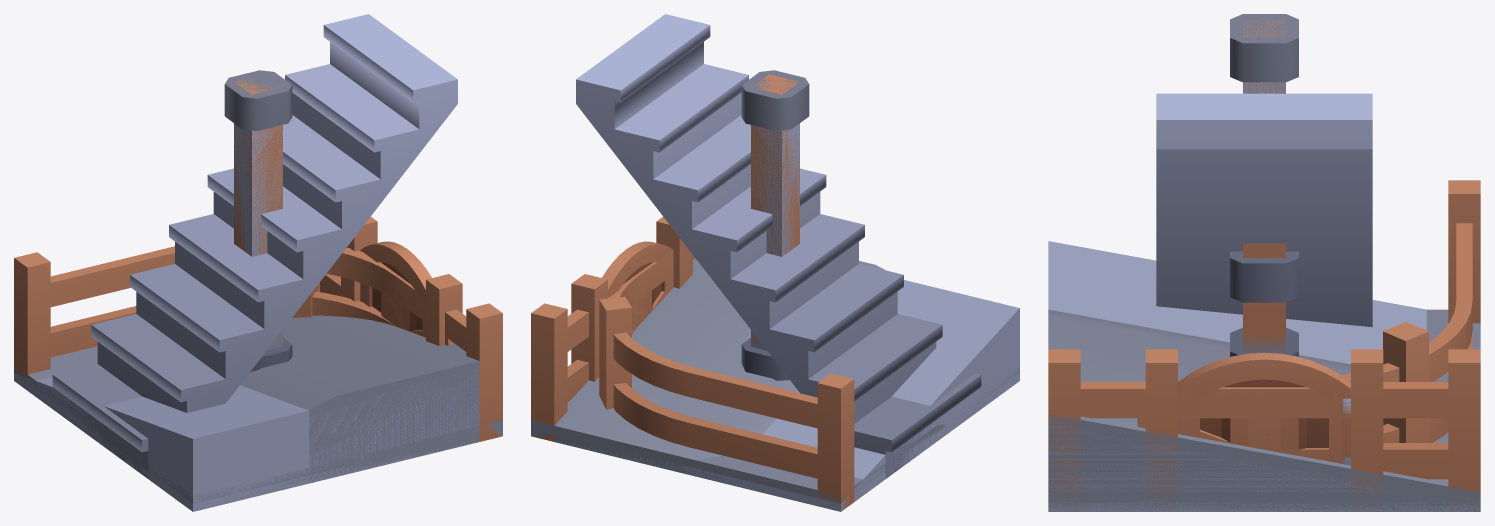
File: town-street.glb
3 views of the same model, side by side, from view 1: azimuth 30°, elevation 25°; view 2: azimuth 150°, elevation 25°; view 3: azimuth 270°, elevation 25° (orthographic). The views are drawn at different scales.
Parts seen in each view (by area): view 1: stairs_stone_part0, road_edge_slope_part0, fence_curved_part0, road_slope_part0, pillar_stone_part0, fence_part0, pillar_wood_part0, road_curb_part0, fence_gate_part0, road_corner_inner_part0, fence_gate_part1, road_part0 (+1 smaller); view 2: stairs_stone_part0, road_edge_slope_part0, fence_curved_part0, pillar_stone_part0, fence_part0, pillar_wood_part0, fence_gate_part0, road_part0, road_corner_part0, road_corner_inner_part0, road_slope_part0, fence_gate_part1 (+2 smaller); view 3: stairs_stone_part0, road_edge_slope_part0, fence_part0, road_slope_part0, fence_curved_part0, fence_gate_part1, fence_gate_part0, pillar_stone_part0, road_corner_inner_part0, road_corner_part0, pillar_wood_part0, road_part0 (+1 smaller).
Boxes of the visible parts, left/top/right/bottom form: stairs_stone_part0: left=52, top=14, right=457, bottom=478; road_edge_slope_part0: left=15, top=315, right=502, bottom=510; fence_curved_part0: left=14, top=246, right=465, bottom=384; road_slope_part0: left=41, top=370, right=479, bottom=509; pillar_stone_part0: left=224, top=70, right=292, bottom=371; fence_part0: left=317, top=250, right=502, bottom=441; pillar_wood_part0: left=234, top=78, right=282, bottom=349; road_curb_part0: left=14, top=368, right=502, bottom=510; fence_gate_part0: left=320, top=217, right=466, bottom=351; road_corner_inner_part0: left=14, top=346, right=502, bottom=511; fence_gate_part1: left=360, top=241, right=431, bottom=337; road_part0: left=14, top=373, right=502, bottom=511; stairs_stone_part0: left=576, top=14, right=981, bottom=478; road_edge_slope_part0: left=554, top=258, right=1019, bottom=503; fence_curved_part0: left=599, top=252, right=854, bottom=510; pillar_stone_part0: left=741, top=70, right=809, bottom=380; fence_part0: left=531, top=250, right=695, bottom=441; pillar_wood_part0: left=751, top=74, right=799, bottom=348; fence_gate_part0: left=567, top=217, right=692, bottom=401; road_part0: left=531, top=373, right=1019, bottom=511; road_corner_part0: left=531, top=420, right=840, bottom=511; road_corner_inner_part0: left=531, top=373, right=1019, bottom=511; road_slope_part0: left=763, top=280, right=1017, bottom=478; fence_gate_part1: left=602, top=241, right=673, bottom=330; stairs_stone_part0: left=1156, top=93, right=1372, bottom=327; road_edge_slope_part0: left=1048, top=241, right=1480, bottom=511; fence_part0: left=1048, top=349, right=1480, bottom=511; road_slope_part0: left=1048, top=241, right=1480, bottom=511; fence_curved_part0: left=1081, top=180, right=1480, bottom=442; fence_gate_part1: left=1178, top=352, right=1350, bottom=465; fence_gate_part0: left=1081, top=349, right=1448, bottom=511; pillar_stone_part0: left=1230, top=14, right=1298, bottom=356; road_corner_inner_part0: left=1048, top=309, right=1480, bottom=511; road_corner_part0: left=1048, top=492, right=1480, bottom=511; pillar_wood_part0: left=1243, top=19, right=1285, bottom=351; road_part0: left=1048, top=502, right=1480, bottom=511.
Size of what is drawn, in the model's own units: 1.02 by 1 by 1.
1 material, 1 textured.
